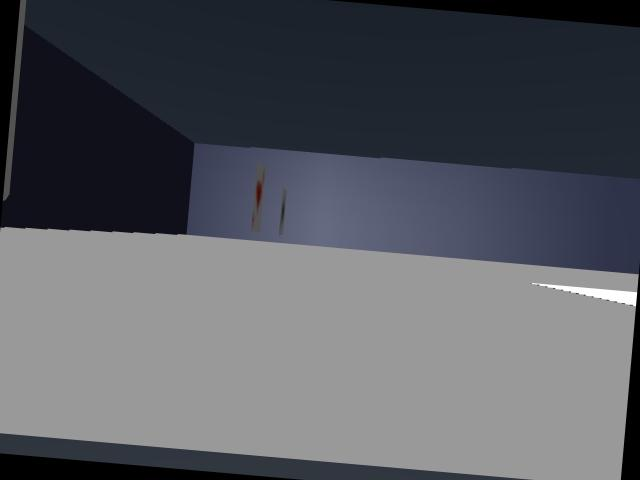diamond: (250, 162, 266, 232)
